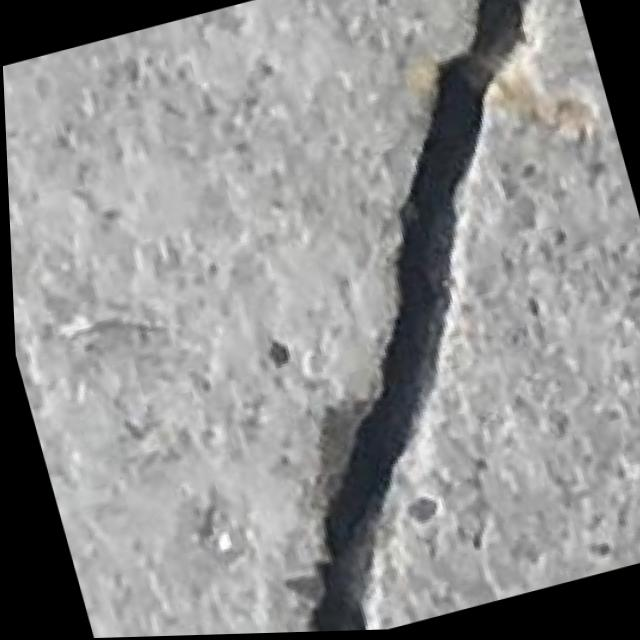Crack: (143, 0, 640, 637)
